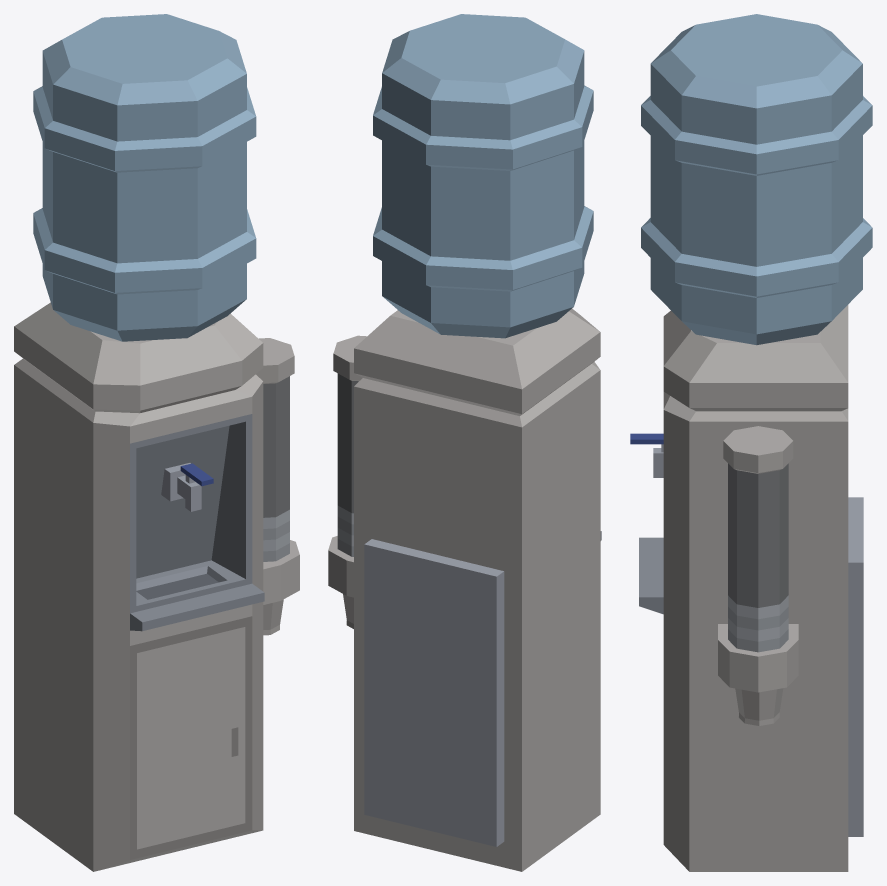
Rendered from SM_Prop_WaterCooler_01.glb.
The picture shows the model from 3 angles, left to right: view 1: azimuth 30°, elevation 25°; view 2: azimuth 150°, elevation 25°; view 3: azimuth 270°, elevation 25°; orthographic projection.
Visible parts, largest first — view 1: SM_Prop_WaterCooler_01, SM_Prop_WaterCooler_Glass_01; view 2: SM_Prop_WaterCooler_01, SM_Prop_WaterCooler_Glass_01; view 3: SM_Prop_WaterCooler_01, SM_Prop_WaterCooler_Glass_01.
Boxes of the visible parts, x1,y1,x2,y2 form: SM_Prop_WaterCooler_01: [14, 152, 299, 871]; SM_Prop_WaterCooler_Glass_01: [33, 14, 256, 205]; SM_Prop_WaterCooler_01: [328, 150, 601, 871]; SM_Prop_WaterCooler_Glass_01: [373, 14, 593, 203]; SM_Prop_WaterCooler_01: [630, 164, 872, 871]; SM_Prop_WaterCooler_Glass_01: [641, 14, 872, 208].
Bounding box in the file's own units: 0.5696 × 1.68 × 0.4727.
2 materials, 2 textured.
